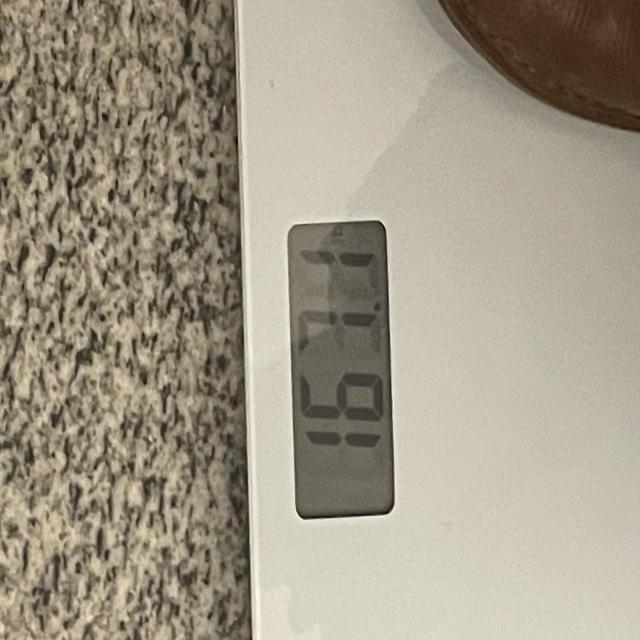ws: (233, 0, 640, 640)
